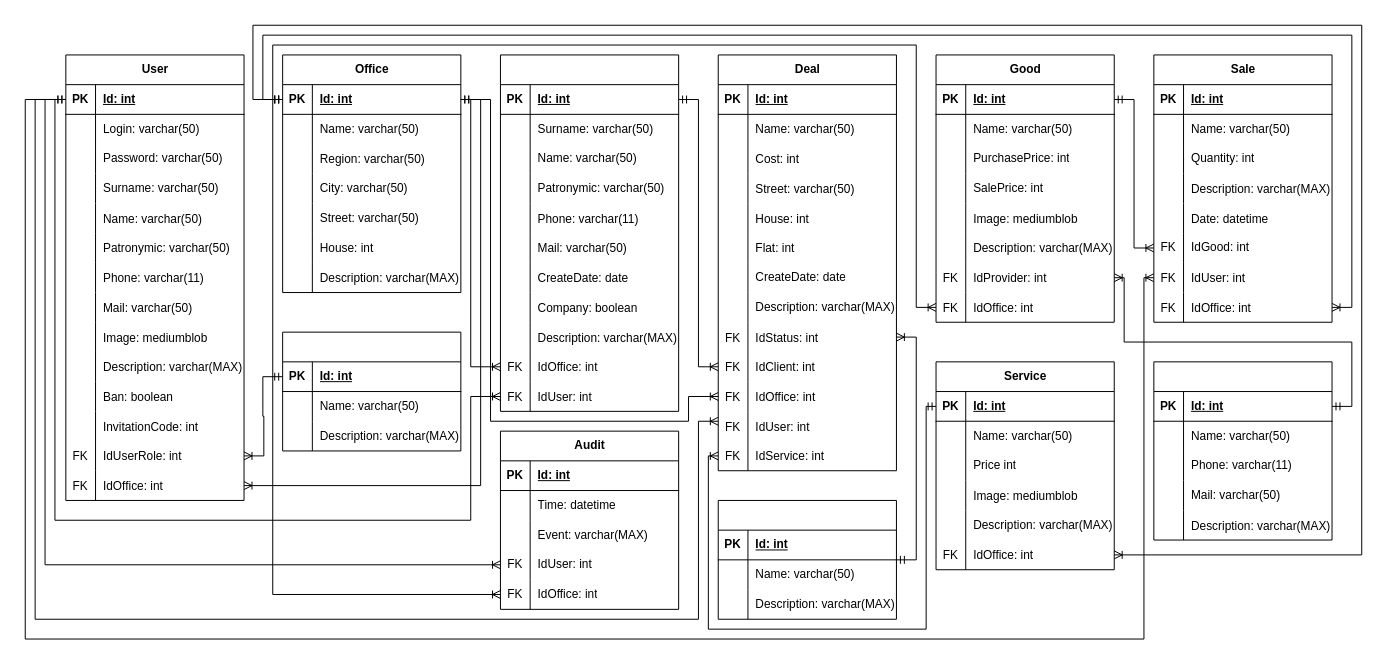
Some shapes in this 1388 by 665 pixel diagram are drawn without their labels. Each missing label, with the box of its shape:
Client: (499, 54, 679, 411)
DealStatus: (717, 499, 896, 619)
Provider: (1153, 361, 1332, 540)
UserRole: (282, 331, 461, 451)
